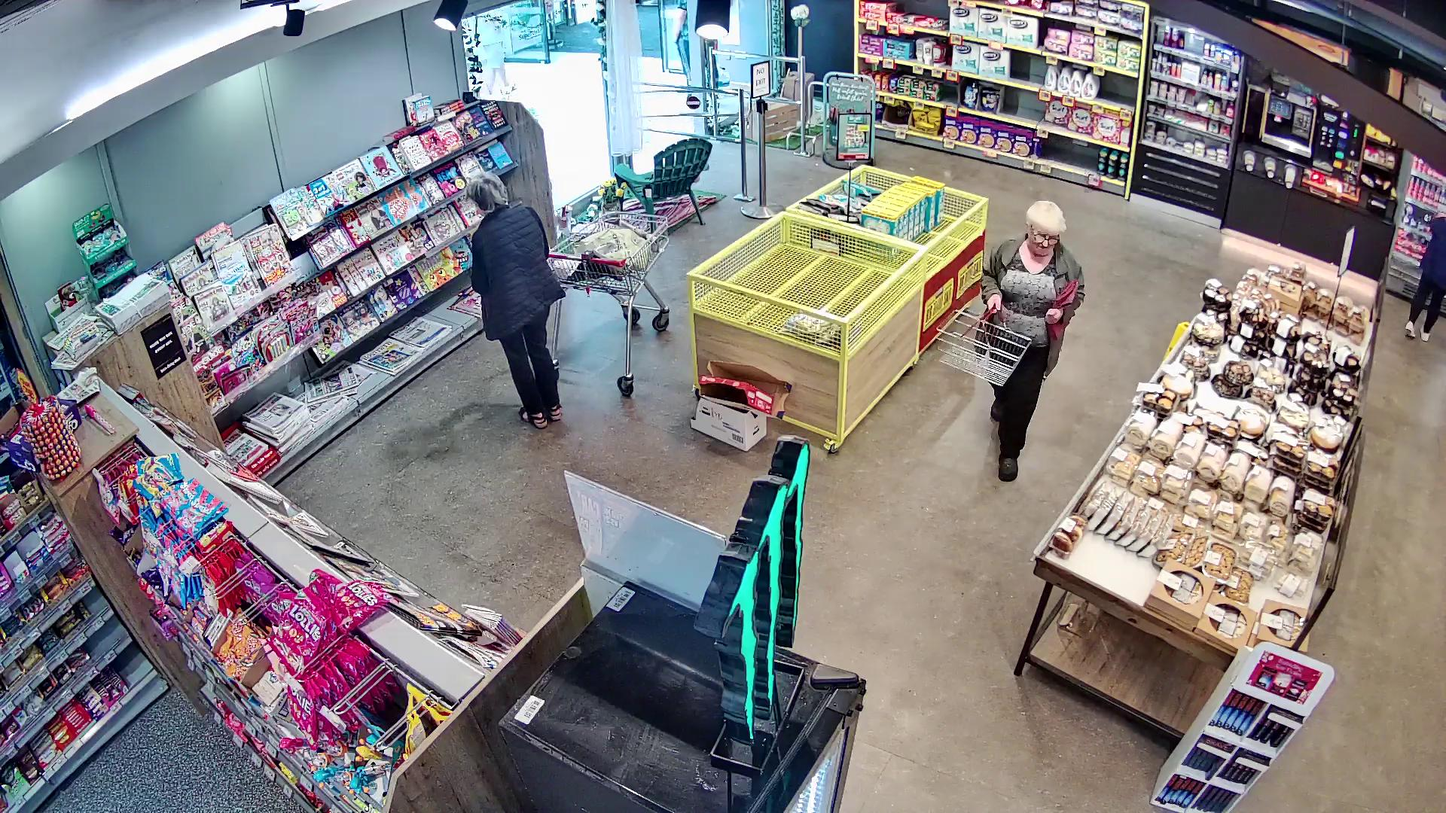empty-basket: (936, 306, 1032, 386)
empty-shopping-bags: (1049, 279, 1079, 341)
filled-trolly: (546, 211, 670, 397)
person: (982, 198, 1085, 481), (469, 173, 565, 428)
person-with-basket-trolly-and-shopping-bag: (936, 197, 1085, 479)
person-with-filled-basket-trolly: (468, 172, 670, 427)
